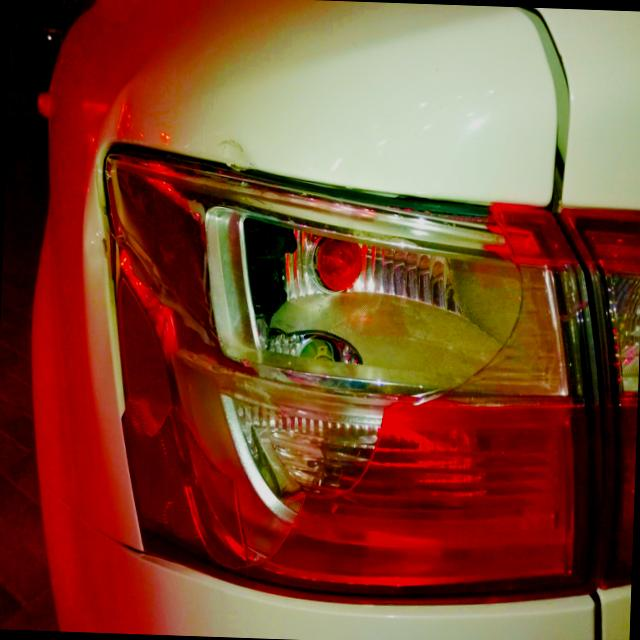Phare abime: (114, 150, 537, 574)
